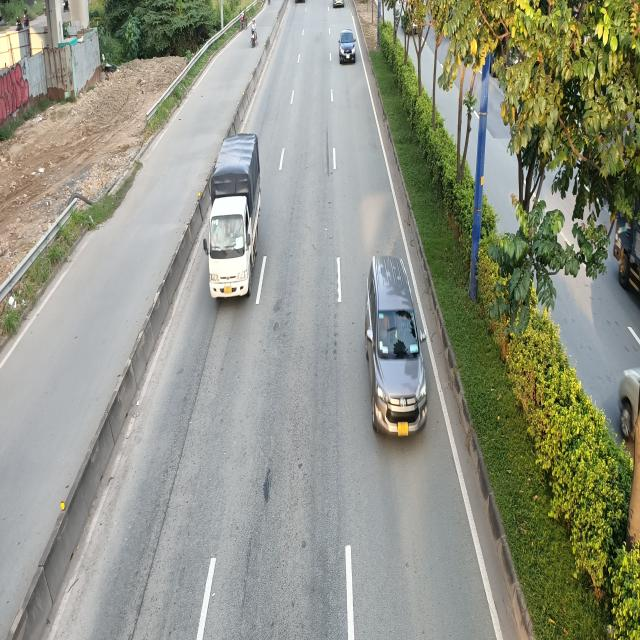car: (362, 255, 426, 438), (339, 31, 357, 65)
truck: (203, 132, 262, 302)
